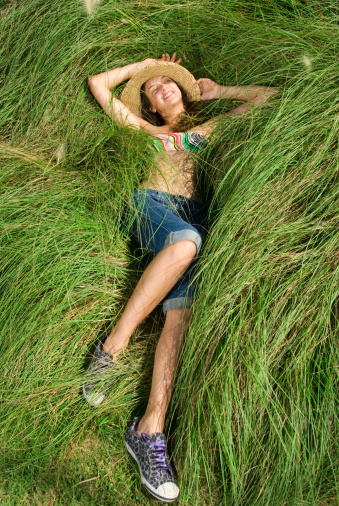deitado: (81, 17, 253, 486)
